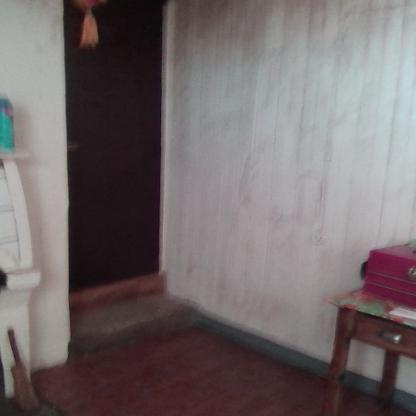door: (66, 0, 165, 282)
lever: (64, 142, 88, 154)
